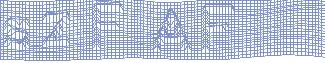A: (150, 7, 191, 53)
F: (200, 1, 237, 55), (90, 1, 124, 52)
s: (2, 14, 31, 51)
z: (39, 9, 71, 48)
